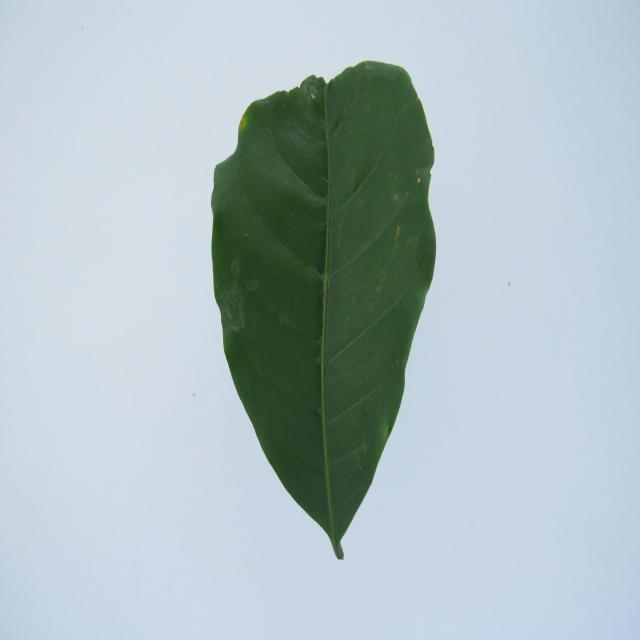DeficienciaNutricional-Boro: (211, 62, 436, 558)
